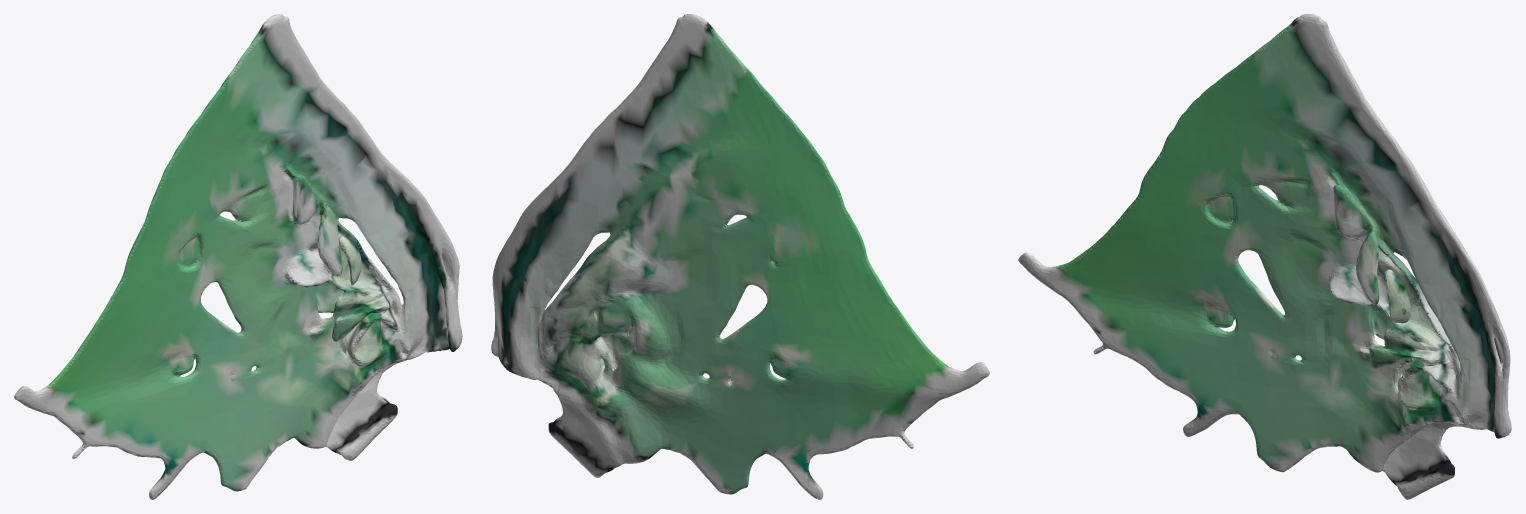
File: pix_dust.glb
3 renders of one model, left to right at view 1: azimuth 30°, elevation 25°; view 2: azimuth 150°, elevation 25°; view 3: azimuth 330°, elevation 25°, orthographic.
Parts seen in each view (by area): view 1: geometry_0; view 2: geometry_0; view 3: geometry_0.
Part boxes in pixels (x1,y1,x2,y2): geometry_0: (14,14,462,499); geometry_0: (491,14,989,499); geometry_0: (1018,14,1511,499).
Bounding box in the file's own units: 0.5854 × 0.5625 × 0.0797.
